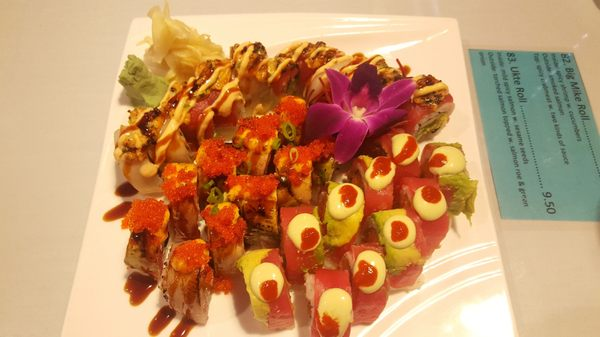curry: (13, 4, 599, 334)
pasta: (467, 46, 600, 331)
